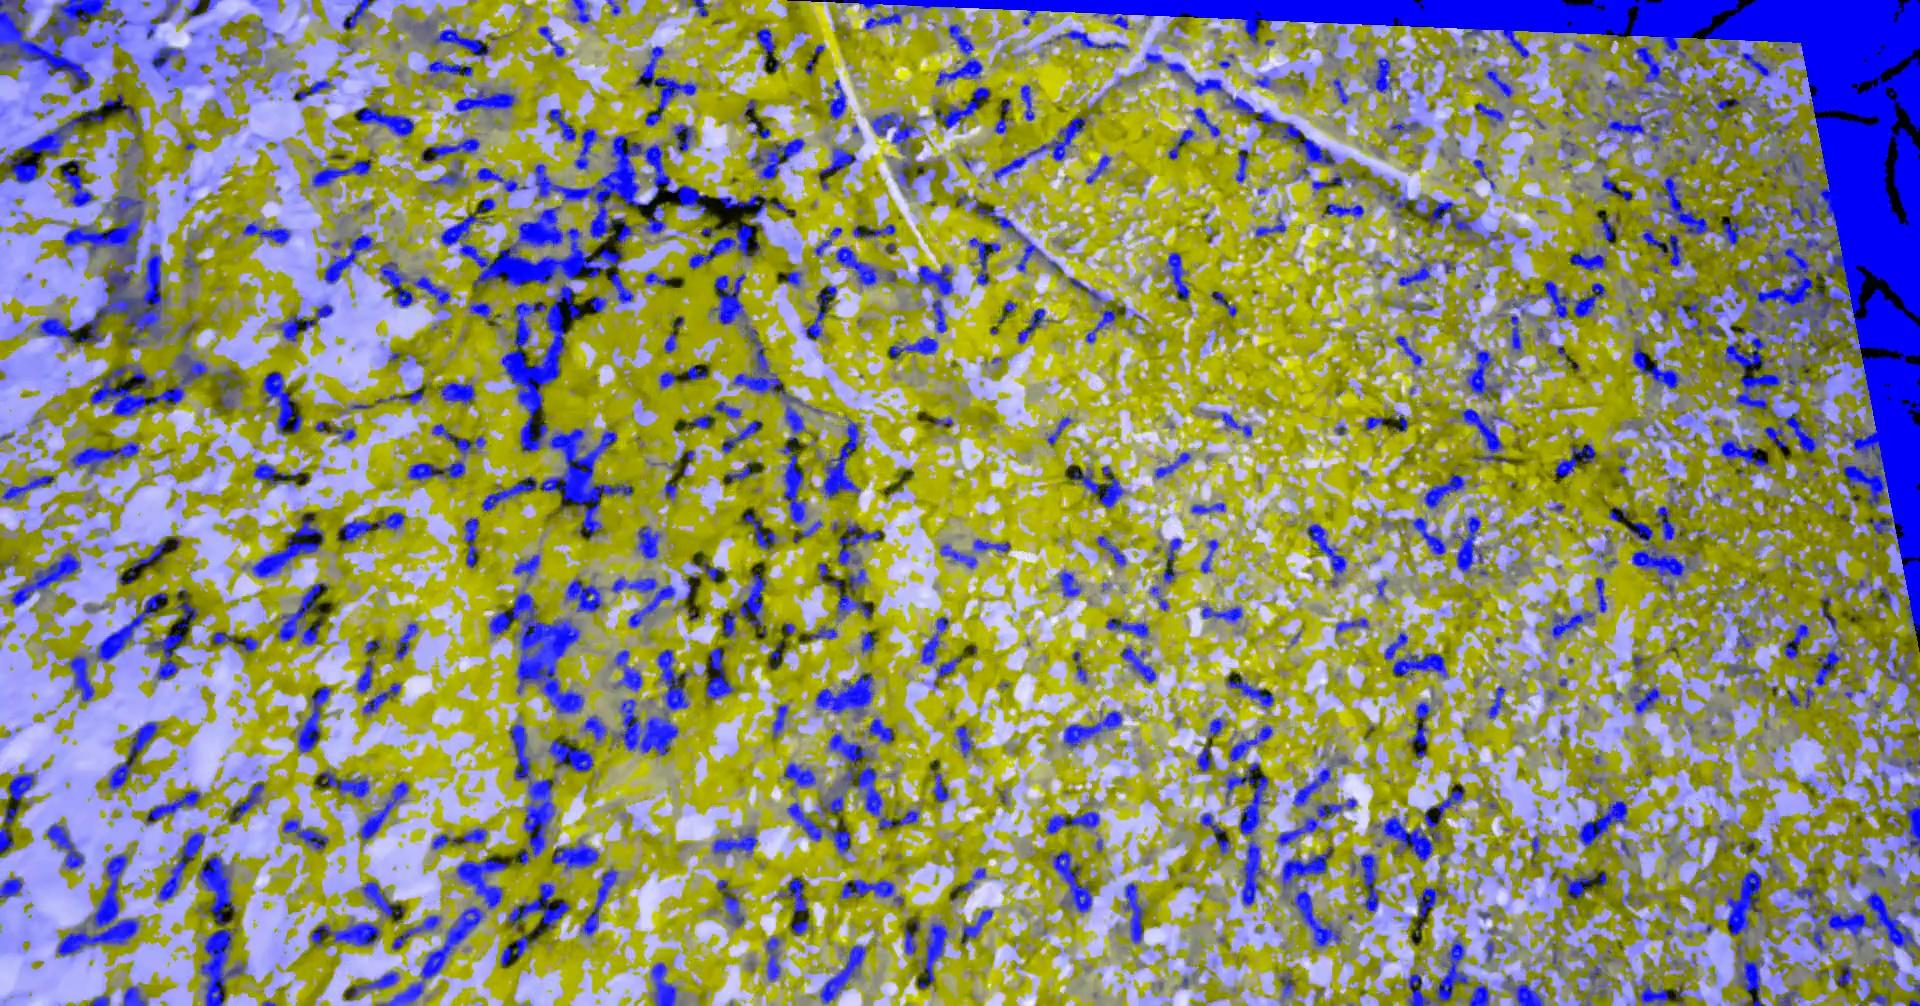ant: (993, 116, 1084, 180), (97, 592, 168, 661), (635, 46, 696, 124), (974, 203, 1043, 272), (1276, 798, 1356, 845), (10, 553, 79, 606), (1385, 192, 1472, 232), (688, 222, 762, 268), (108, 721, 157, 789), (1656, 171, 1709, 234), (611, 577, 676, 627), (157, 832, 204, 901), (1290, 884, 1341, 946), (277, 583, 328, 641), (822, 419, 860, 497), (935, 23, 982, 85), (720, 572, 764, 636), (359, 781, 408, 840), (508, 883, 569, 929), (819, 945, 865, 1005), (439, 198, 495, 245), (262, 372, 302, 434), (323, 234, 373, 283), (1462, 408, 1509, 461), (580, 868, 617, 935), (1051, 850, 1091, 912), (1542, 279, 1605, 318), (1630, 544, 1690, 583), (933, 86, 989, 128), (297, 686, 331, 752), (1577, 800, 1627, 846), (1632, 340, 1679, 387), (118, 539, 166, 584), (750, 138, 804, 179), (1063, 710, 1121, 747), (337, 511, 404, 542), (1072, 465, 1123, 507), (1435, 939, 1468, 1002), (1281, 846, 1332, 887), (71, 442, 138, 473), (1307, 523, 1346, 575), (278, 304, 331, 340), (918, 922, 947, 988), (657, 649, 688, 709), (1166, 62, 1223, 95), (145, 789, 199, 823), (870, 112, 916, 151), (781, 445, 804, 523), (827, 579, 872, 619), (354, 105, 413, 136), (717, 194, 795, 217), (1465, 348, 1500, 399), (804, 285, 836, 339), (362, 882, 404, 922), (1227, 671, 1272, 708), (712, 273, 745, 324), (311, 158, 371, 185), (430, 423, 485, 453), (391, 915, 439, 949), (837, 525, 879, 564), (1669, 293, 1707, 337), (46, 823, 83, 868), (1415, 887, 1448, 936), (1453, 516, 1482, 572), (60, 159, 94, 206), (149, 633, 183, 680), (500, 929, 542, 967), (310, 922, 378, 945), (378, 260, 411, 307), (836, 246, 876, 285), (1291, 766, 1330, 807), (1228, 725, 1272, 760), (1642, 227, 1681, 265), (968, 238, 999, 285), (432, 29, 488, 56), (547, 739, 593, 771), (1392, 652, 1448, 677), (420, 138, 479, 163), (1241, 840, 1262, 904), (1423, 474, 1464, 508), (705, 647, 731, 699), (0, 475, 55, 500), (1784, 412, 1817, 453), (455, 88, 514, 111), (347, 970, 397, 997), (921, 616, 949, 664), (282, 819, 328, 848), (1562, 870, 1608, 899), (1634, 46, 1669, 84), (229, 782, 263, 821), (787, 801, 822, 840), (146, 0, 179, 39), (721, 420, 761, 453), (1554, 443, 1594, 476), (1719, 439, 1768, 466), (1057, 30, 1128, 48), (1121, 647, 1156, 683), (320, 771, 370, 796), (775, 876, 808, 915), (1124, 882, 1144, 942), (476, 166, 527, 191), (1200, 812, 1229, 854), (716, 879, 743, 925), (1412, 517, 1445, 554), (551, 842, 598, 868), (1046, 810, 1098, 833), (1550, 610, 1592, 638), (99, 93, 137, 123), (69, 655, 94, 701), (362, 682, 400, 713), (1815, 645, 1843, 686), (430, 828, 486, 848), (565, 579, 601, 611), (817, 147, 855, 177), (1738, 959, 1763, 1005), (960, 909, 992, 944), (917, 264, 952, 295), (615, 649, 641, 690), (413, 276, 450, 305), (243, 221, 290, 244), (1166, 251, 1189, 298), (1084, 309, 1116, 342), (744, 513, 775, 547), (1605, 111, 1648, 135), (889, 337, 937, 358), (651, 962, 676, 1005), (1410, 702, 1429, 757), (1360, 854, 1378, 911), (839, 879, 893, 898), (408, 461, 463, 479), (253, 464, 298, 485), (712, 832, 757, 854), (0, 807, 20, 854), (342, 0, 373, 29), (938, 544, 977, 568), (1017, 307, 1044, 342), (1154, 452, 1190, 478), (1783, 624, 1808, 659), (292, 79, 331, 102), (1096, 535, 1125, 565), (549, 108, 575, 141), (574, 128, 596, 169), (394, 622, 417, 659), (175, 589, 197, 627), (1373, 57, 1396, 93), (150, 46, 182, 71), (877, 810, 919, 829), (1163, 537, 1181, 582), (1484, 69, 1512, 97), (1630, 685, 1658, 713), (1192, 107, 1219, 136), (538, 25, 564, 56), (825, 79, 844, 119), (1168, 128, 1194, 159), (1396, 335, 1421, 366), (1105, 619, 1148, 636), (608, 272, 632, 304), (1219, 412, 1251, 436), (783, 762, 815, 786), (427, 58, 472, 75), (1397, 262, 1430, 285), (1068, 277, 1101, 300), (637, 526, 660, 559), (952, 868, 985, 890), (814, 227, 841, 255), (1905, 804, 1919, 857), (1601, 175, 1630, 201), (439, 382, 474, 404), (1407, 973, 1430, 1005), (1637, 982, 1669, 1005), (8, 774, 34, 800), (1084, 155, 1110, 183), (1741, 52, 1770, 76), (1570, 251, 1606, 271), (1255, 213, 1285, 236), (463, 517, 477, 567), (301, 612, 323, 644), (1210, 291, 1236, 318), (513, 554, 538, 580), (1884, 657, 1909, 685), (1474, 102, 1503, 124), (792, 520, 822, 542), (725, 461, 756, 483), (1512, 983, 1543, 1005), (1048, 417, 1070, 445), (1650, 117, 1669, 150), (830, 821, 850, 854), (766, 936, 780, 981), (1718, 213, 1738, 244), (1627, 521, 1652, 545), (1384, 633, 1407, 659), (695, 560, 723, 582), (1201, 606, 1241, 621), (1656, 506, 1674, 539), (1200, 539, 1218, 572), (853, 224, 895, 238), (869, 718, 893, 742), (185, 0, 216, 19), (583, 715, 606, 741), (1763, 424, 1785, 448), (1057, 572, 1079, 596), (356, 659, 372, 692), (1487, 685, 1503, 718), (904, 917, 919, 953), (376, 391, 423, 403), (645, 205, 664, 232), (1324, 203, 1363, 217), (1310, 173, 1342, 189), (933, 767, 949, 801), (937, 655, 961, 677), (756, 28, 775, 55), (673, 124, 692, 151), (931, 298, 946, 332), (1020, 84, 1034, 119), (748, 116, 770, 138), (0, 878, 22, 901), (772, 704, 787, 735), (955, 727, 971, 756), (973, 539, 1010, 551), (469, 304, 490, 325), (1335, 619, 1368, 633), (122, 986, 146, 1005), (1509, 315, 1521, 351), (1594, 577, 1606, 612), (714, 400, 740, 417), (131, 367, 152, 387), (1468, 984, 1490, 1005), (1190, 502, 1224, 514), (1072, 652, 1086, 682), (1332, 77, 1349, 103), (1236, 149, 1248, 182), (820, 794, 842, 813), (684, 414, 714, 428), (571, 0, 589, 23), (432, 170, 458, 185), (847, 568, 865, 591), (1196, 744, 1211, 771), (1150, 586, 1167, 610), (1834, 963, 1851, 984), (684, 365, 707, 381), (218, 370, 235, 392), (767, 641, 781, 668), (899, 156, 912, 185), (1601, 217, 1617, 241), (1811, 927, 1826, 951), (1794, 884, 1817, 899), (809, 626, 836, 639), (1785, 154, 1801, 175), (1279, 976, 1294, 997), (1865, 989, 1887, 1005), (1716, 98, 1741, 111), (1390, 121, 1418, 132), (1821, 606, 1835, 629), (1388, 414, 1407, 431), (237, 635, 257, 652), (1878, 587, 1893, 607), (860, 631, 875, 652), (331, 428, 356, 441), (644, 271, 665, 285), (1728, 666, 1757, 676), (589, 295, 606, 312), (658, 371, 676, 387), (212, 631, 234, 644), (1609, 506, 1627, 521), (1473, 159, 1487, 178), (1777, 991, 1796, 1005), (692, 0, 707, 17), (105, 8, 122, 23), (791, 920, 808, 935), (1736, 630, 1750, 648), (1787, 688, 1801, 706), (1530, 836, 1539, 864), (1364, 417, 1383, 429), (1209, 716, 1222, 735), (786, 271, 801, 286), (664, 332, 676, 352), (1752, 309, 1764, 328), (314, 420, 330, 433), (1145, 52, 1163, 64), (1375, 578, 1387, 596), (606, 0, 620, 14), (1484, 940, 1493, 962), (994, 117, 1006, 133), (664, 480, 676, 497), (1589, 965, 1600, 982), (1707, 325, 1724, 335), (817, 563, 827, 580), (91, 995, 109, 1005), (364, 639, 378, 652), (1255, 75, 1270, 86), (1749, 217, 1765, 227)
